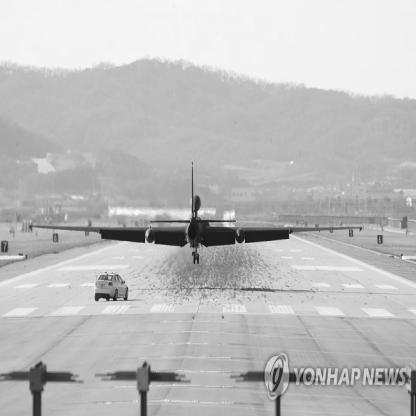U2: (30, 162, 364, 266)
